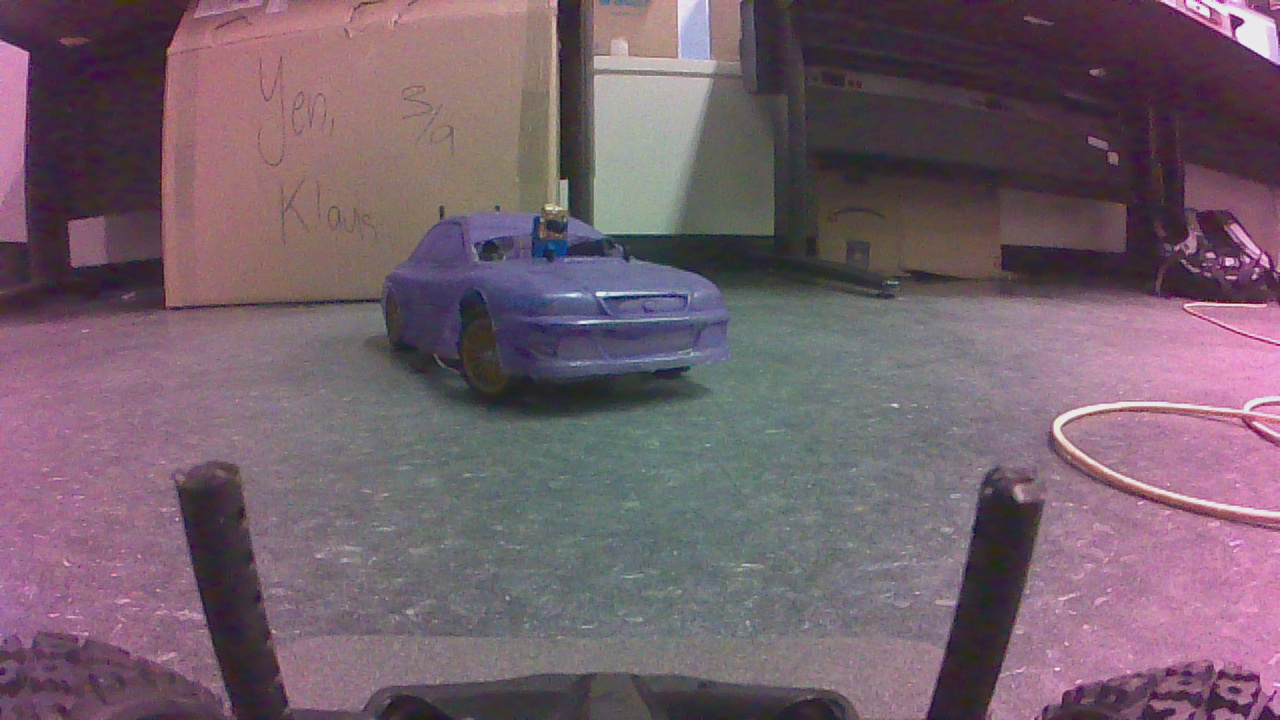opponent: (372, 204, 744, 404)
